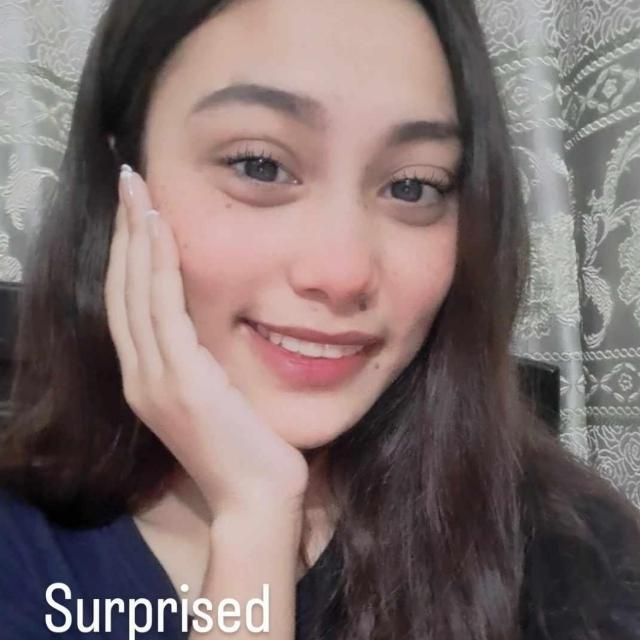Happy: (85, 31, 525, 483)
